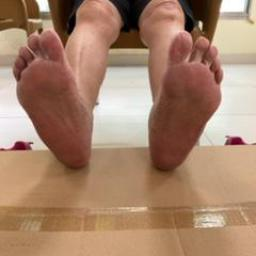Plantar View -Both Feet-: (2, 14, 235, 188)
